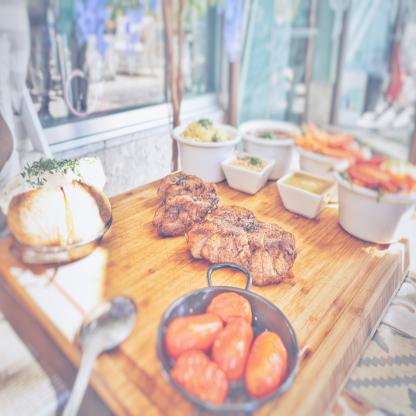Carne: (191, 203, 296, 284), (152, 171, 216, 238)
